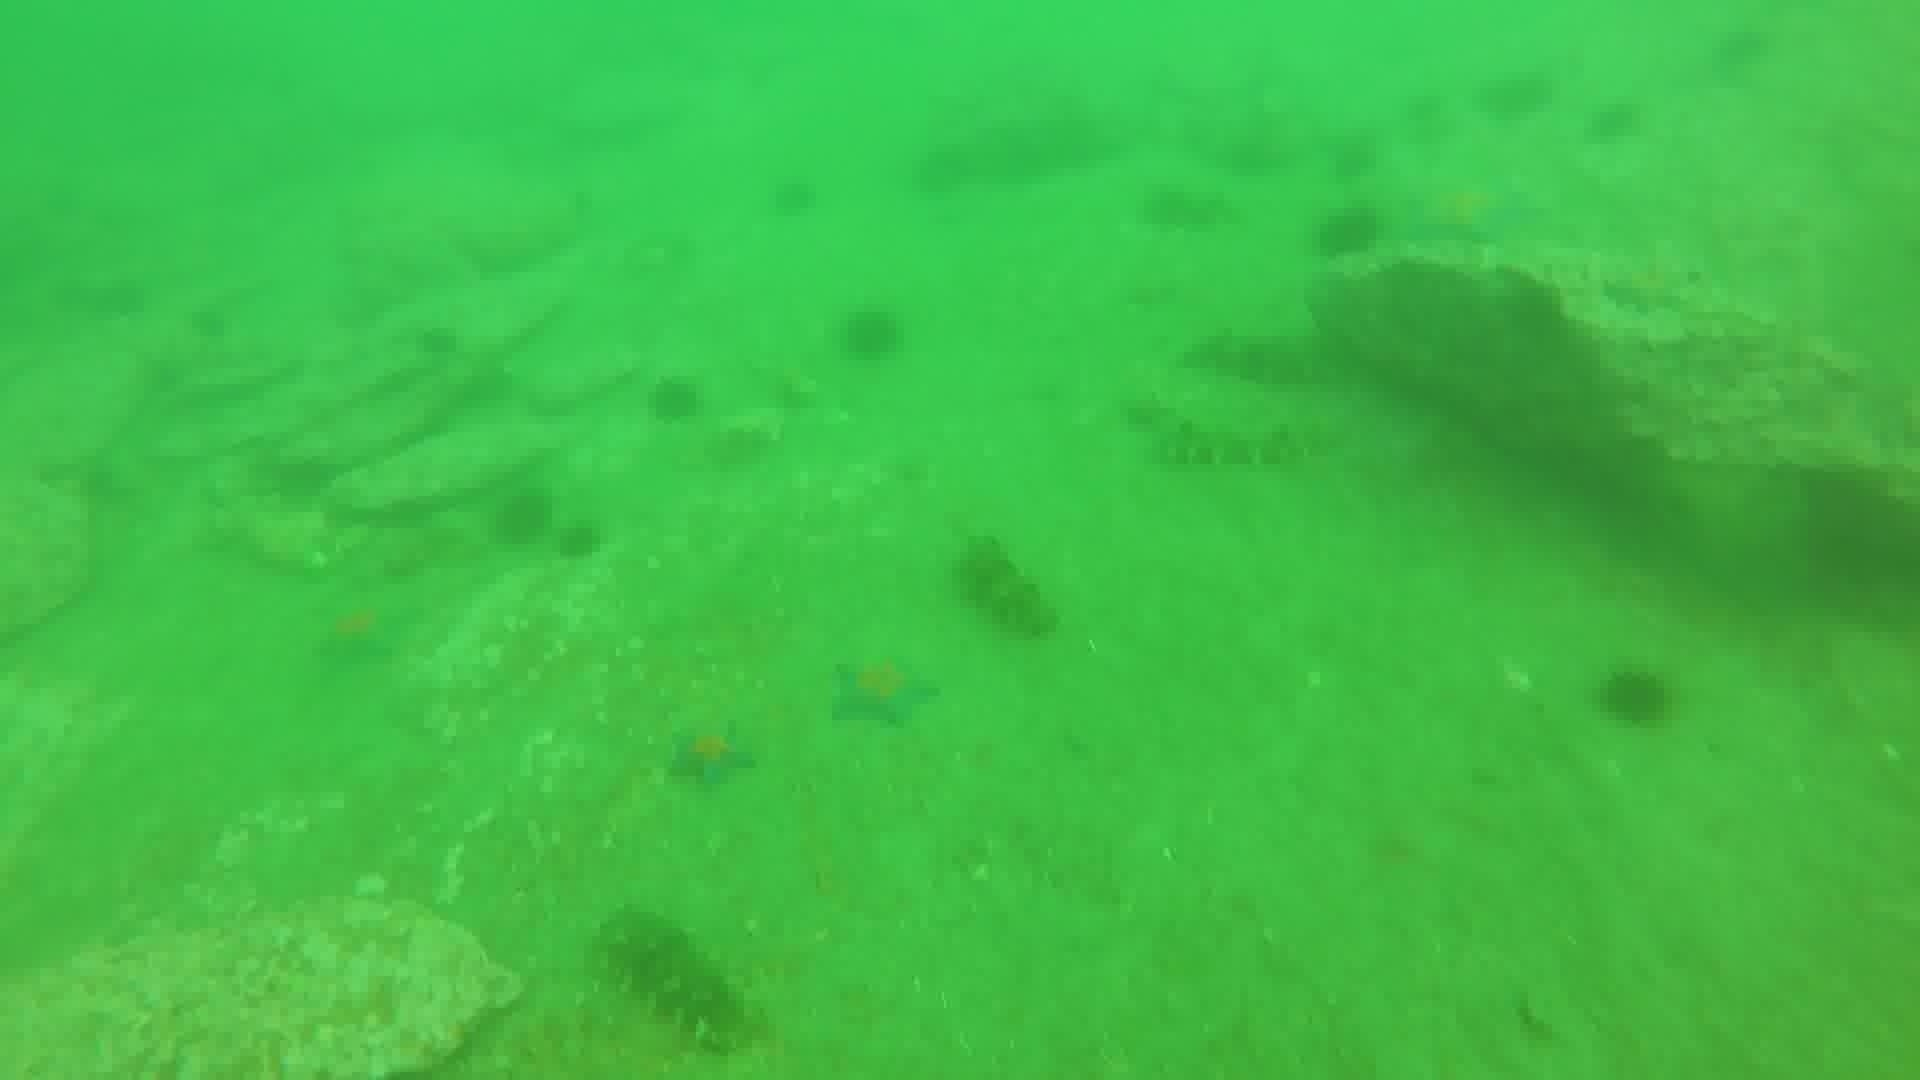echinus: (1594, 662, 1677, 732), (1309, 200, 1386, 265), (833, 302, 909, 367), (487, 483, 556, 550), (907, 138, 977, 202), (642, 372, 707, 429), (1582, 94, 1647, 148), (1324, 128, 1383, 186), (1474, 65, 1531, 124), (764, 171, 823, 222), (551, 516, 608, 566), (1134, 178, 1180, 231), (1513, 61, 1553, 103), (1404, 80, 1443, 120), (1182, 191, 1220, 223)
holothurian: (592, 905, 761, 1052), (1125, 386, 1342, 476), (949, 531, 1062, 641), (1179, 319, 1335, 393)
starfish: (1403, 170, 1538, 253), (306, 583, 419, 673), (824, 647, 942, 733), (661, 715, 760, 793), (1596, 251, 1701, 318)
